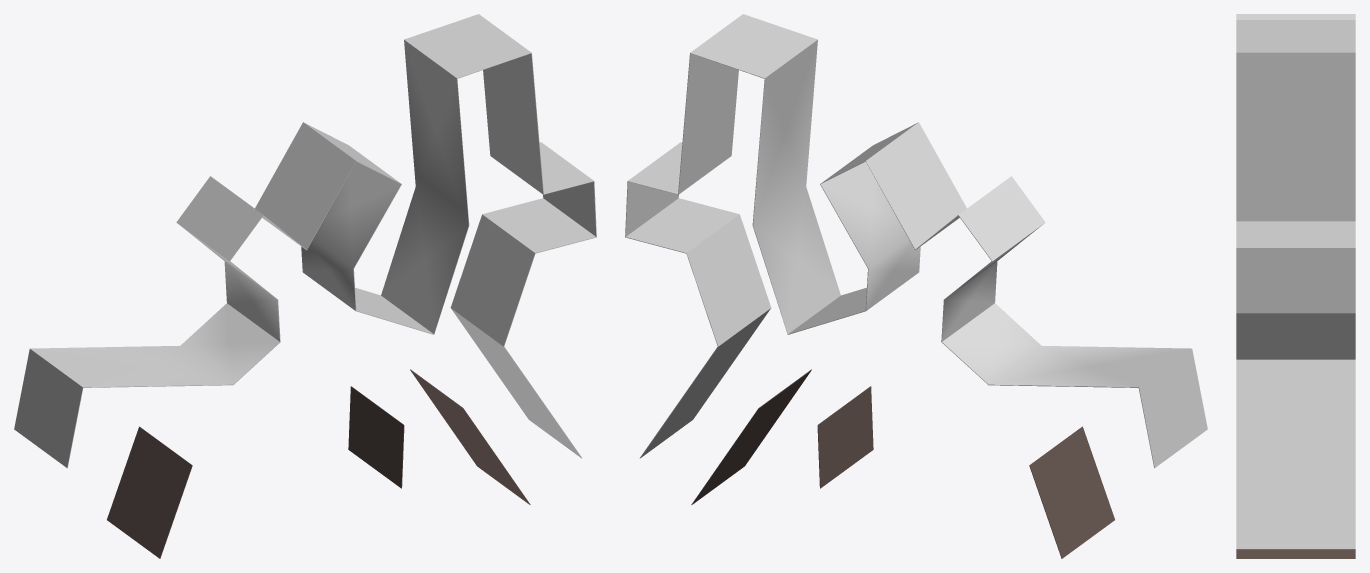
Rendered from wall4.gltf.
3 views of the same model, side by side, from view 1: azimuth 30°, elevation 25°; view 2: azimuth 150°, elevation 25°; view 3: azimuth 270°, elevation 25° (orthographic). The views are drawn at different scales.
Bounding box in the file's own units: 0.3915 × 0.3193 × 0.068.
